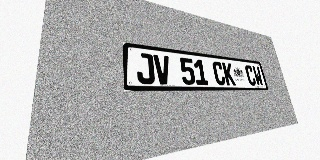1: (193, 59, 208, 85)
5: (179, 57, 196, 85)
C: (212, 61, 226, 85), (244, 65, 257, 86)
J: (136, 52, 155, 84)
K: (222, 62, 236, 85)
V: (153, 54, 172, 84)
W: (252, 66, 264, 86)
